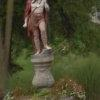Statue: (18, 0, 68, 74)
